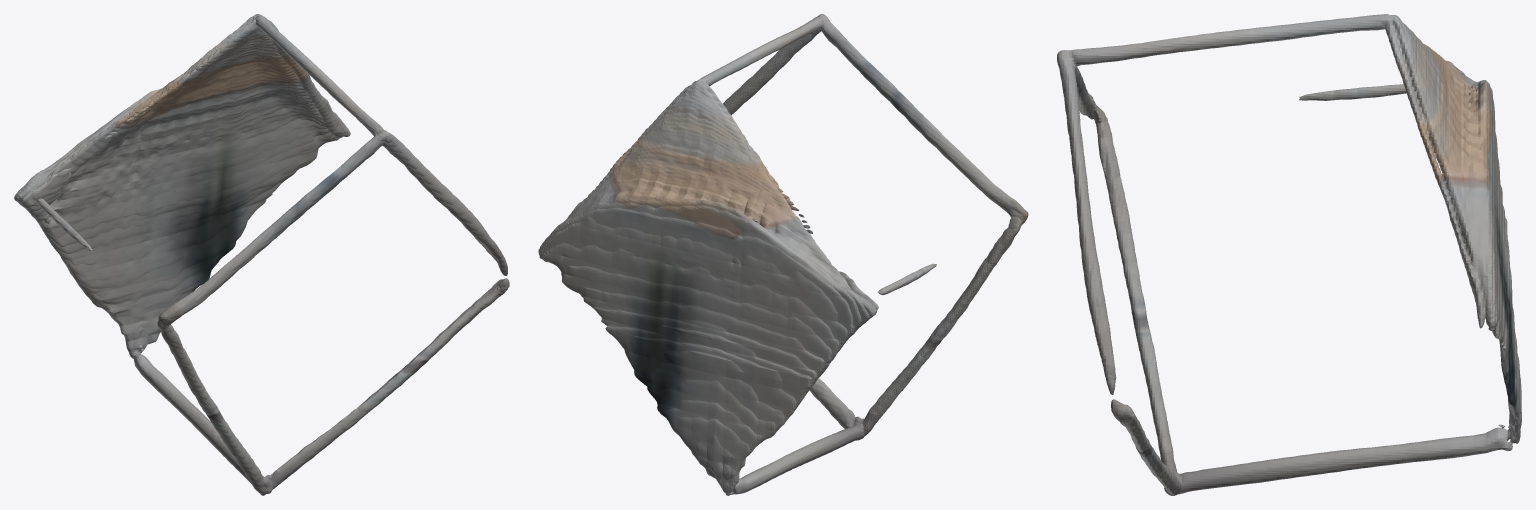
File: Abilaud VITA.glb
3 views of the same model, side by side, from view 1: azimuth 30°, elevation 25°; view 2: azimuth 150°, elevation 25°; view 3: azimuth 270°, elevation 25° (orthographic). The views are drawn at different scales.
Visible parts, largest first — view 1: world; view 2: world; view 3: world.
Part boxes in pixels (x1,y1,x2,y2): world: (14,14,509,495); world: (538,14,1028,495); world: (1057,14,1521,495).
Bounding box in the file's own units: 1.22 × 1.3 × 1.03.
